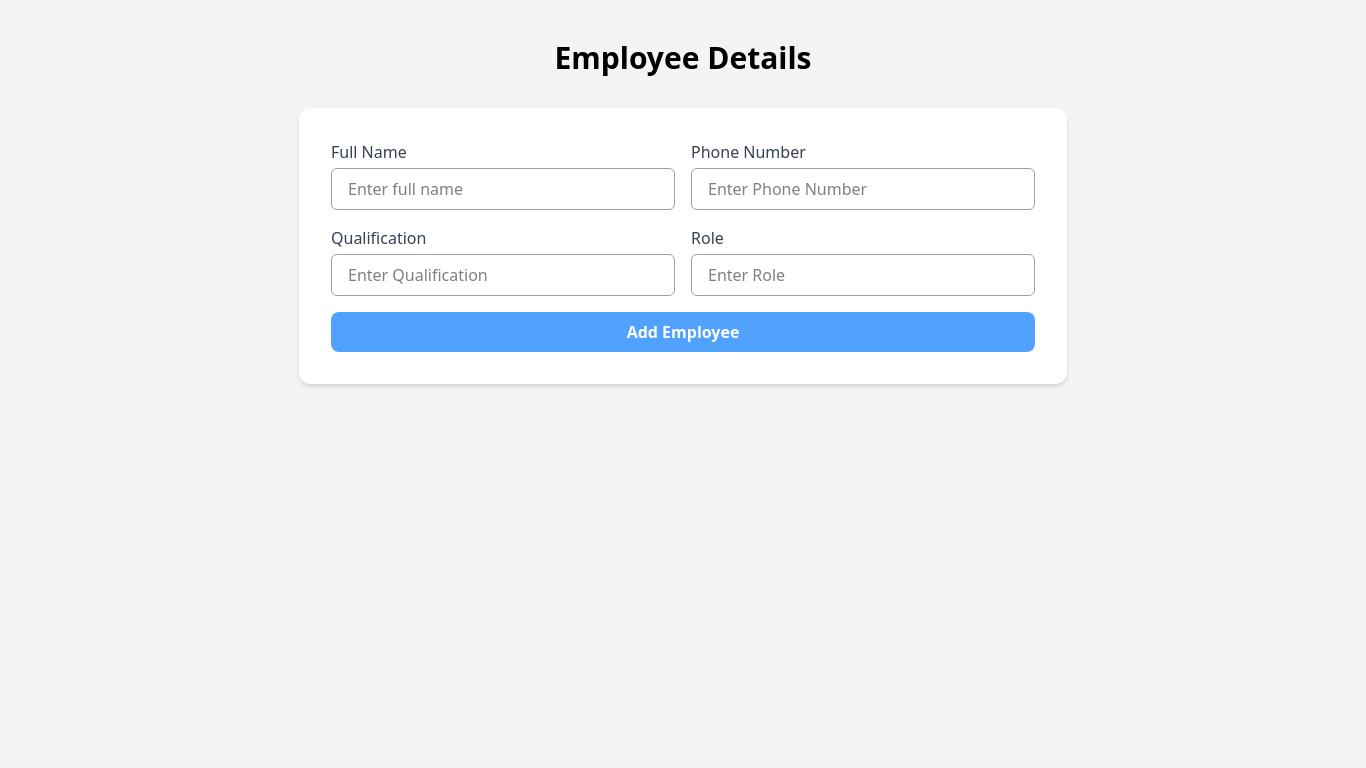
EmployeePage › edits an existing employee
# Add Employee
In the field labelled "Full Name": (503, 189) [331,168,675,210], type "Akalya"
In the field labelled "Phone Number": (863, 189) [691,168,1035,210], type "9876543210"
In the field labelled "Qualification": (503, 275) [331,254,675,296], type "B.Tech"
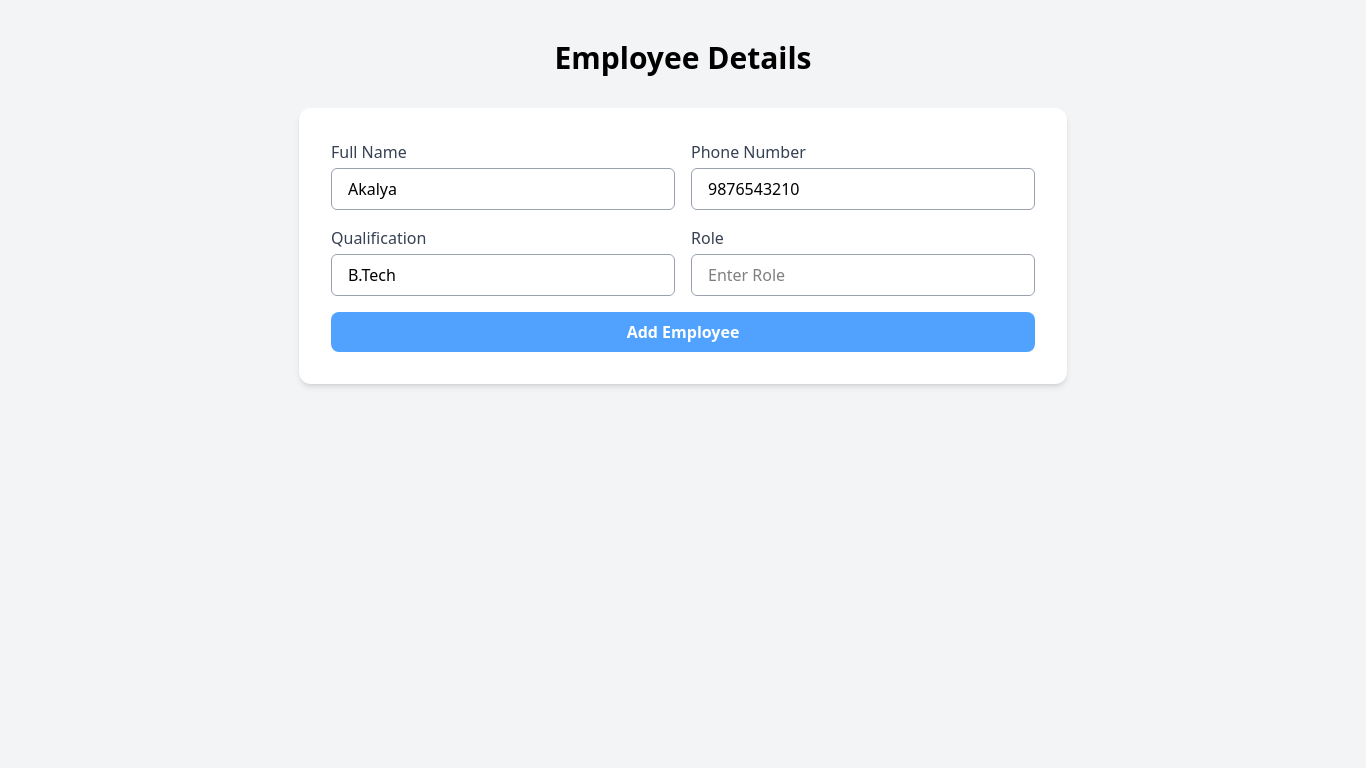
In the field labelled "Role": (863, 275) [691,254,1035,296], type "Developer"
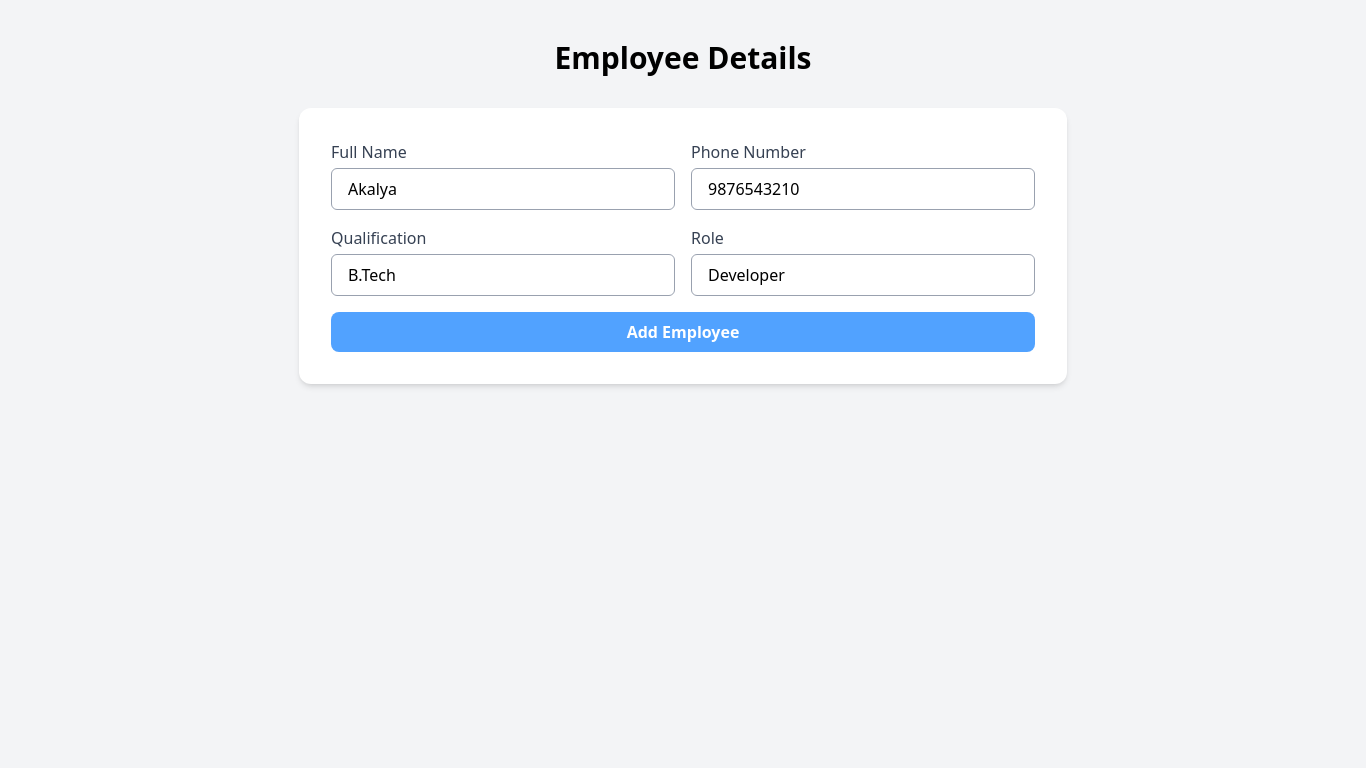
Click the button "Add Employee": (683, 332) [331,312,1035,352]
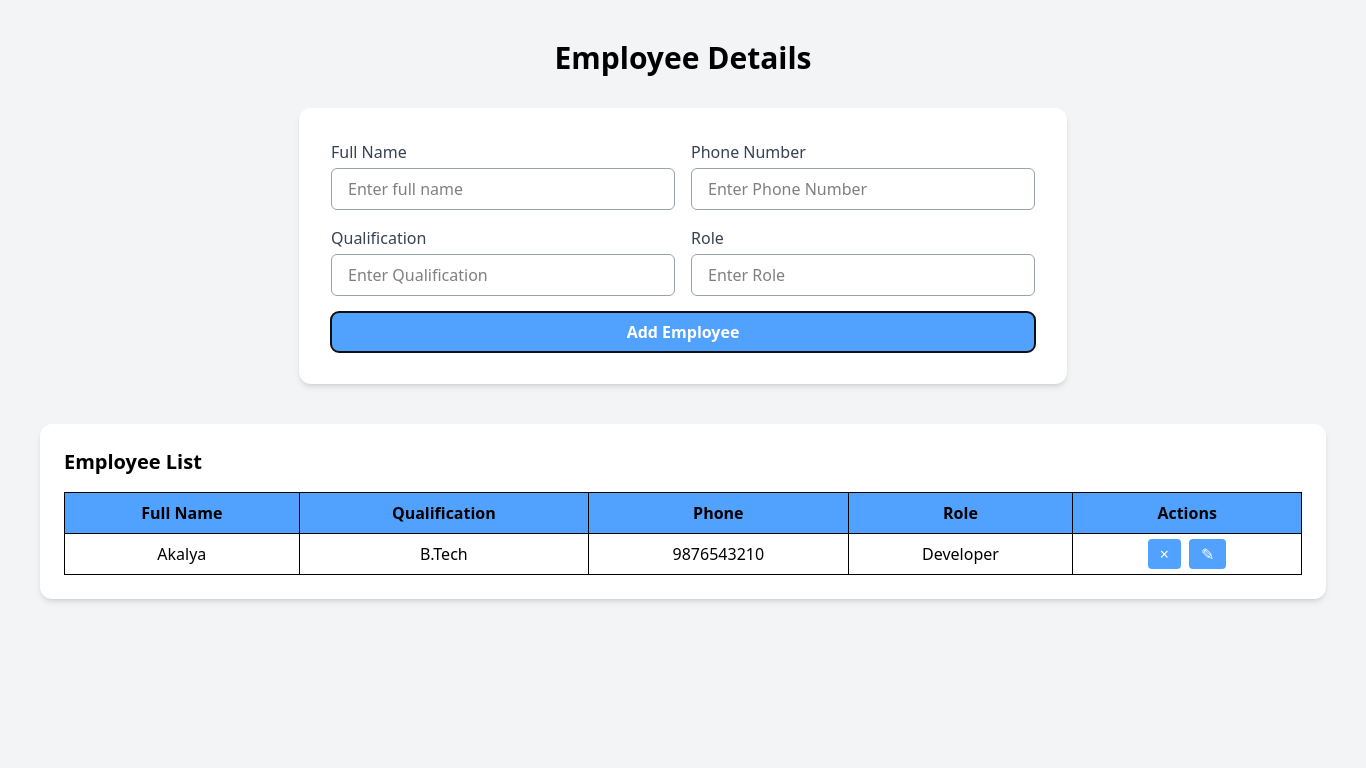
# click edit
Click the text "✎": (1208, 554) [1189,539,1226,569]
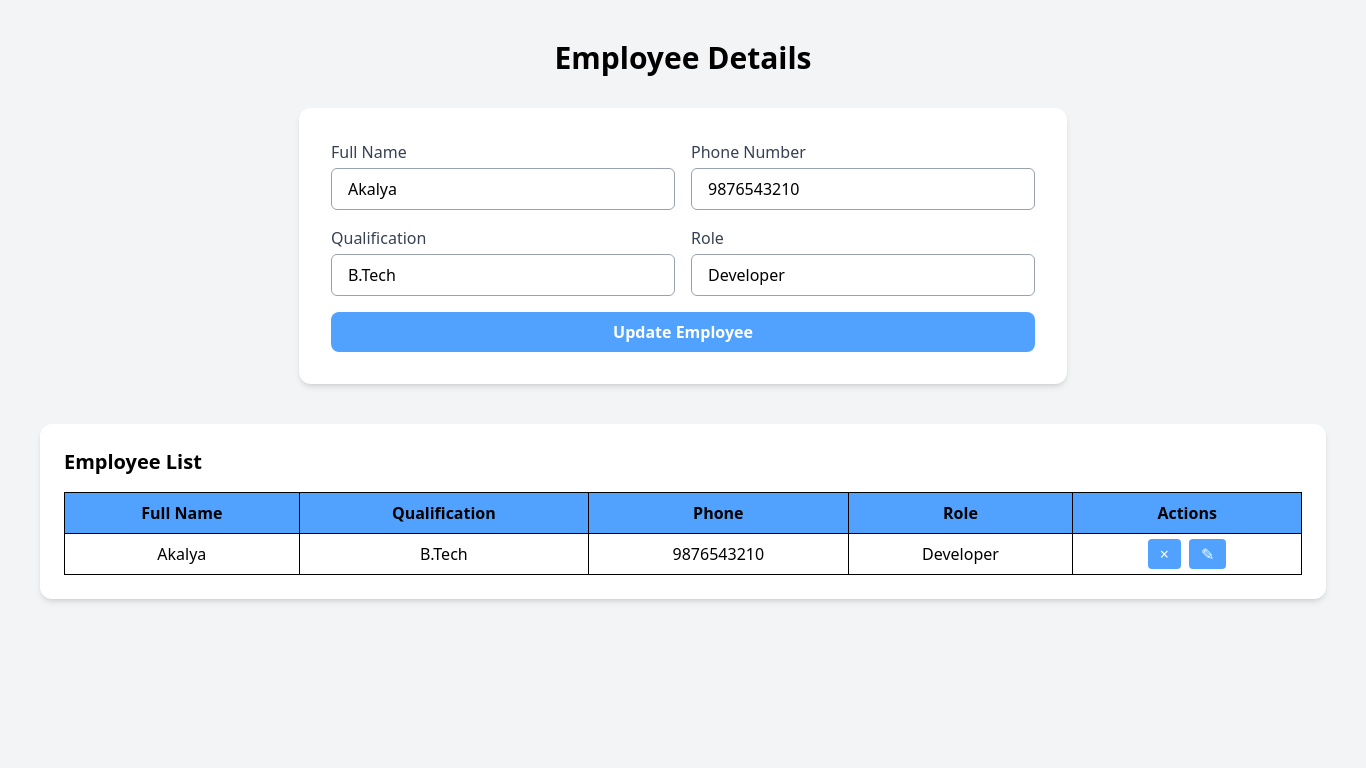
Replace the text in the field labelled "Full Name" with "Akalya Updated": (503, 189) [331,168,675,210]
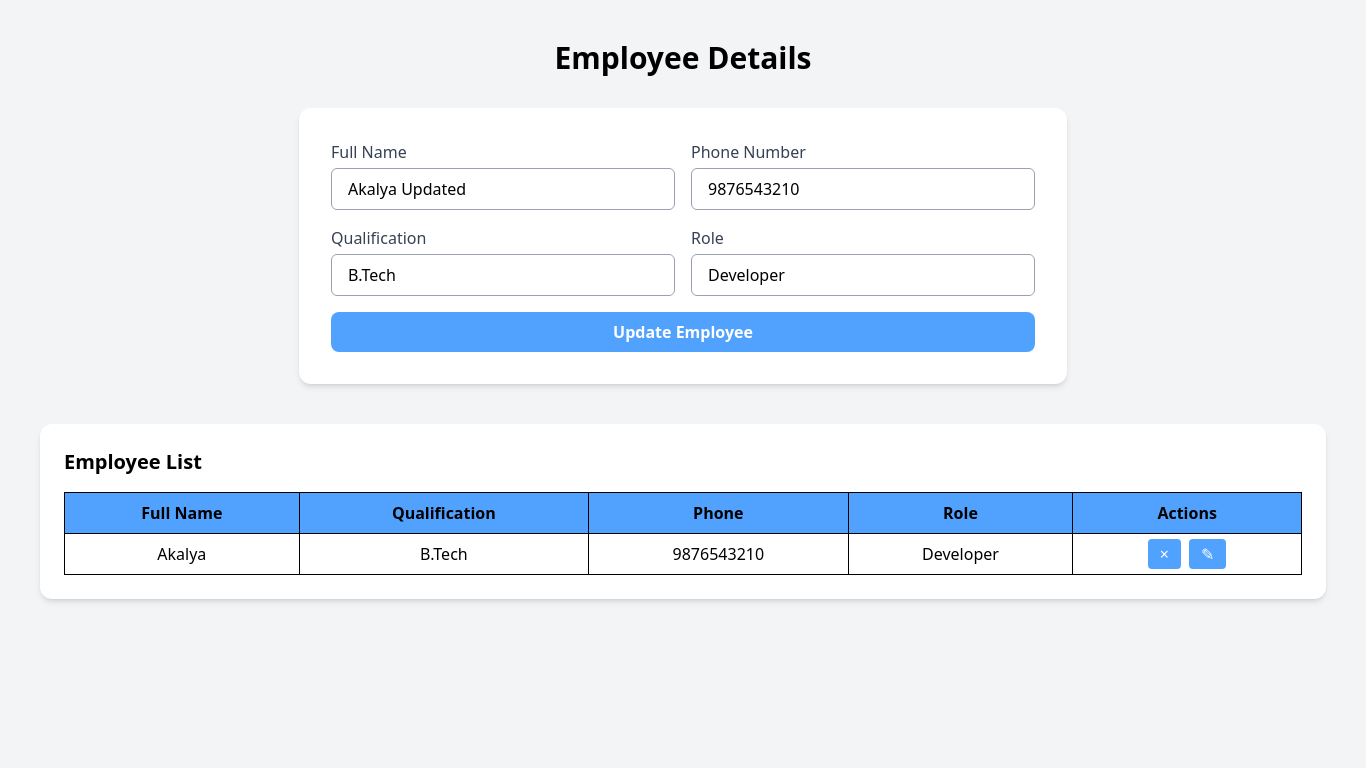
Click the button "Update Employee": (683, 332) [331,312,1035,352]
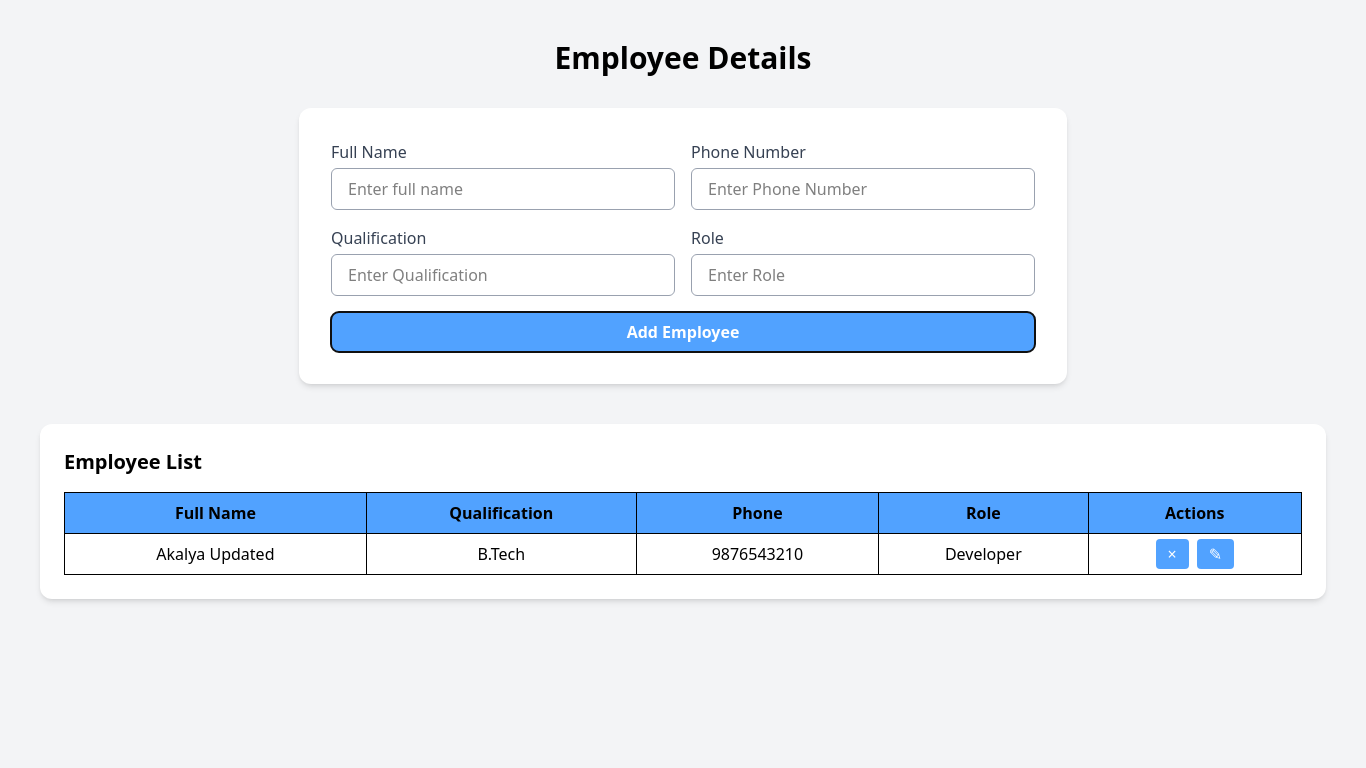
Result: the text "Akalya Updated" is shown at [64,534,366,574]
